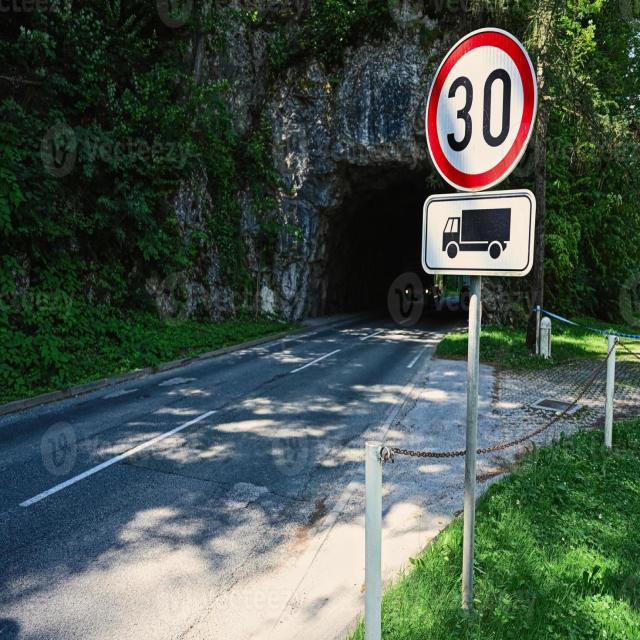Speed limit 30: (424, 25, 540, 194)
